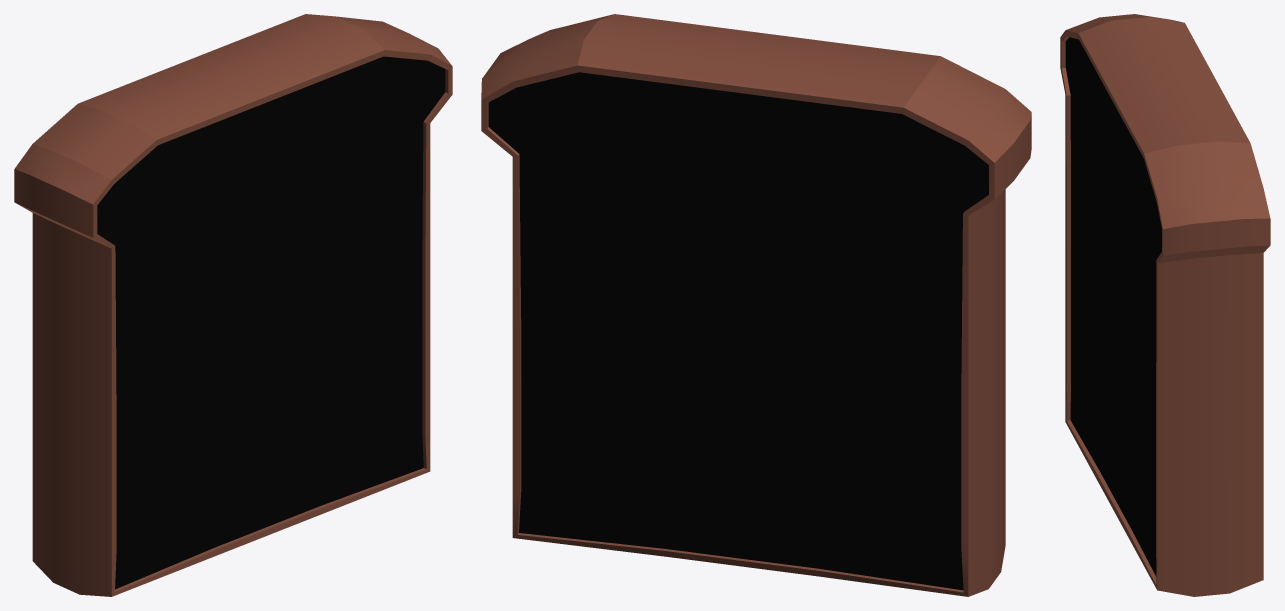
Rendered from bread.fbx.
3 renders of one model, left to right at view 1: azimuth 30°, elevation 25°; view 2: azimuth 150°, elevation 25°; view 3: azimuth 270°, elevation 25°, orthographic. The views are drawn at different scales.
Visible parts, largest first — view 1: pCube1; view 2: pCube1; view 3: pCube1.
Boxes of the visible parts, x1,y1,x2,y2 form: pCube1: [14, 14, 452, 596]; pCube1: [481, 14, 1031, 596]; pCube1: [1060, 14, 1270, 596].
Bounding box in the file's own units: 0.8894 × 0.8806 × 0.3926.
